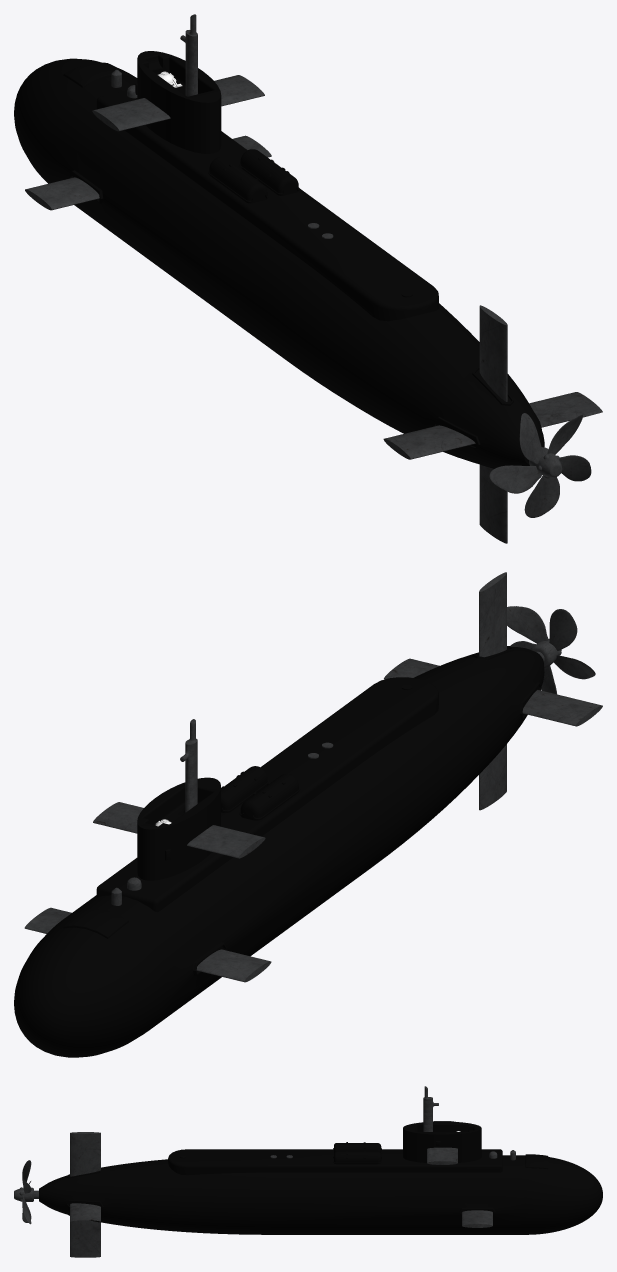
The model's file is submarine.glb.
3 views of the same model, one above another, from view 1: azimuth 30°, elevation 25°; view 2: azimuth 150°, elevation 25°; view 3: azimuth 270°, elevation 25° (orthographic). The views are drawn at different scales.
Visible parts, largest first — view 1: Cylinder.004, Cube, Cylinder.003, Cylinder.020, Cylinder.018, Cylinder.019, Cylinder.011, Cylinder.017, Cylinder.007, Cylinder.012, Cylinder.013, Plane.005 (+3 smaller); view 2: Cylinder.004, Cube, Cylinder.003, Cylinder.020, Cylinder.018, Cylinder.011, Cylinder.007, Cylinder.012, Cylinder.013, Cylinder.019, Plane.001, Cylinder.010 (+3 smaller); view 3: Cylinder.004, Cube, Cylinder.003, Cylinder.020, Cylinder.019, Cylinder.013, Cylinder.006, Cylinder.010, Cylinder.017, Cylinder.012, Cylinder.001.
Boxes of the visible parts, <box> form: Cylinder.004: <box>14,58,544,468</box>; Cube: <box>96,90,438,321</box>; Cylinder.003: <box>135,14,221,153</box>; Cylinder.020: <box>479,305,507,401</box>; Cylinder.018: <box>383,425,475,459</box>; Cylinder.019: <box>479,464,507,543</box>; Cylinder.011: <box>92,98,170,131</box>; Cylinder.017: <box>529,392,602,427</box>; Cylinder.007: <box>25,177,99,210</box>; Cylinder.012: <box>208,156,268,203</box>; Cylinder.013: <box>239,149,299,195</box>; Plane.005: <box>489,465,541,493</box>; Cylinder.004: <box>14,646,544,1057</box>; Cube: <box>96,677,438,912</box>; Cylinder.003: <box>137,719,220,880</box>; Cylinder.020: <box>479,572,506,657</box>; Cylinder.018: <box>522,690,602,726</box>; Cylinder.011: <box>187,825,265,858</box>; Cylinder.007: <box>196,949,271,982</box>; Cylinder.012: <box>239,773,300,820</box>; Cylinder.013: <box>221,766,268,812</box>; Cylinder.019: <box>479,744,506,810</box>; Plane.001: <box>507,606,548,643</box>; Cylinder.010: <box>93,802,143,833</box>; Cylinder.004: <box>39,1154,602,1234</box>; Cube: <box>168,1149,502,1175</box>; Cylinder.003: <box>403,1086,481,1162</box>; Cylinder.020: <box>70,1132,100,1176</box>; Cylinder.019: <box>70,1220,100,1257</box>; Cylinder.013: <box>333,1150,381,1164</box>; Cylinder.006: <box>462,1210,492,1227</box>; Cylinder.010: <box>427,1147,457,1164</box>; Cylinder.017: <box>70,1203,100,1221</box>; Cylinder.012: <box>333,1142,381,1153</box>; Cylinder.001: <box>14,1187,38,1201</box>.
Bounding box in the file's own units: 361 × 472 × 1476.
3 materials, 1 textured.
